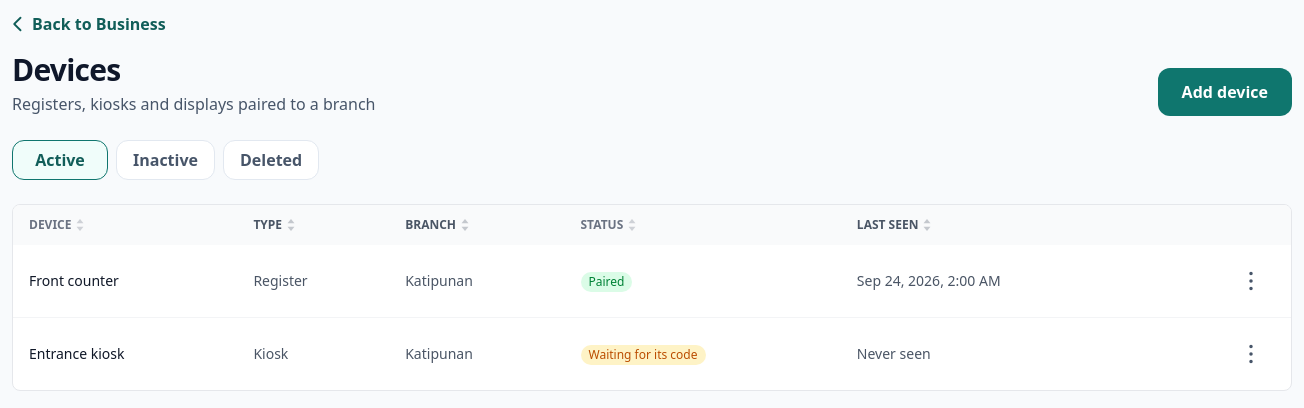
Test case: DevicesPage › shows each device with its name, type, branch and where it is in pairing
Expected: the text "Front counter" is shown, x1=29 y1=271 x2=119 y2=290
Expected: the text "Paired" is shown, x1=580 y1=272 x2=632 y2=292
Click the button "Inactive" at [166, 160], box x1=116 y1=140 x2=215 y2=180
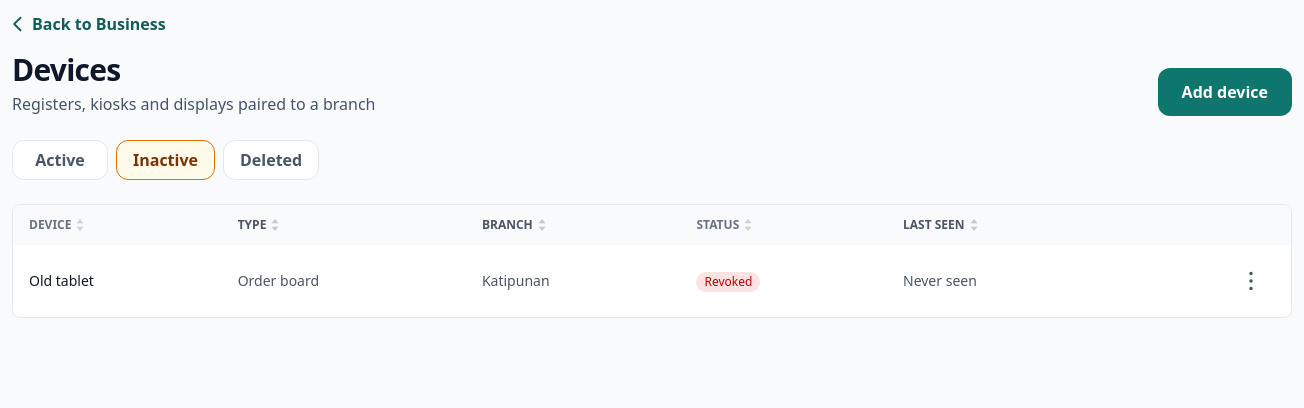
Now the text "Old tablet" is shown, box x1=29 y1=271 x2=94 y2=290
Now the text "Revoked" is shown, box x1=696 y1=272 x2=760 y2=292
